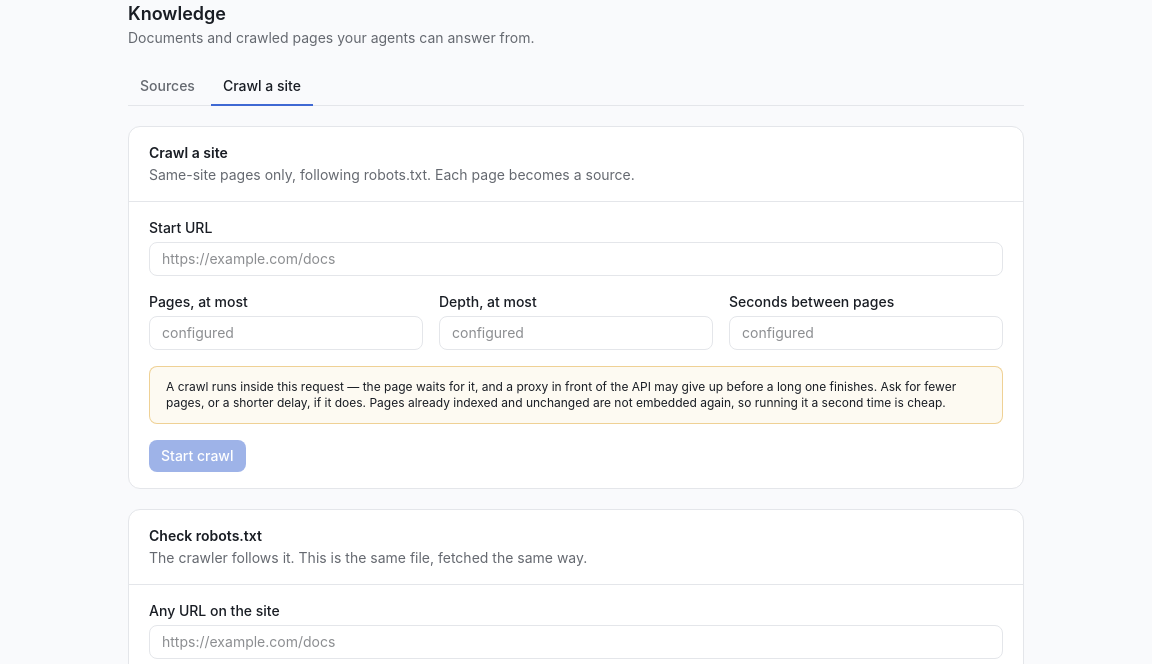
Test: the crawl report › lists what it skipped, with the server's reason for each
Type "https://acme.test/docs" into the field labelled "Start URL" at (576, 259), box [149, 242, 1003, 276]
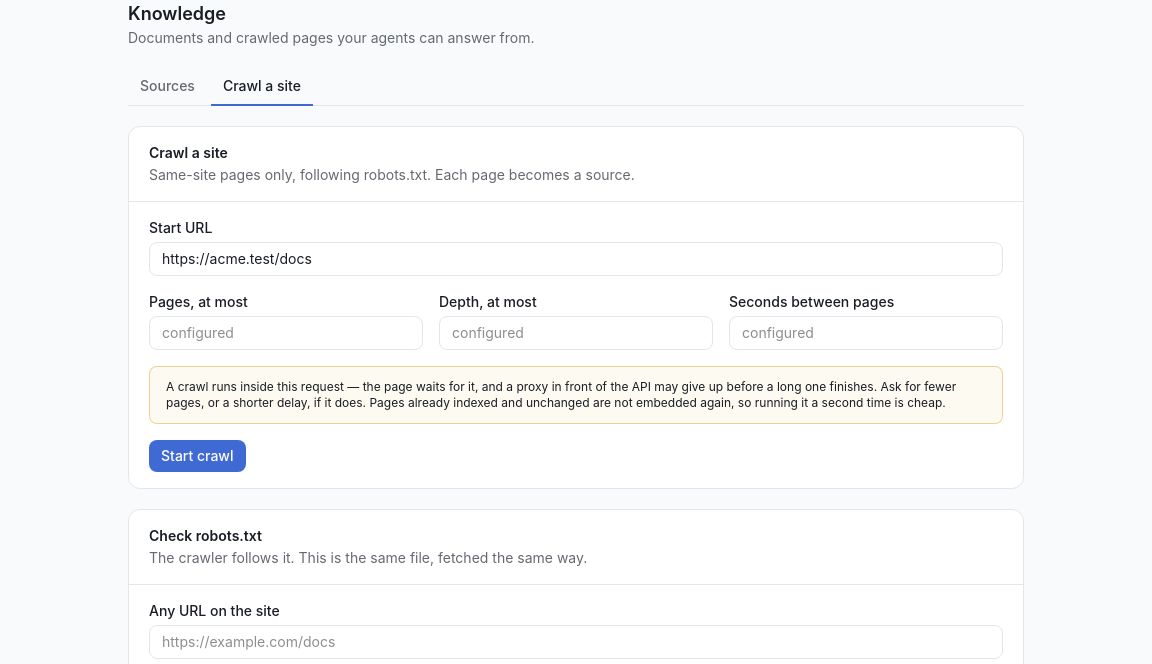
Click the button "Start crawl" at (197, 456), box [149, 440, 246, 472]
(page scrolled)
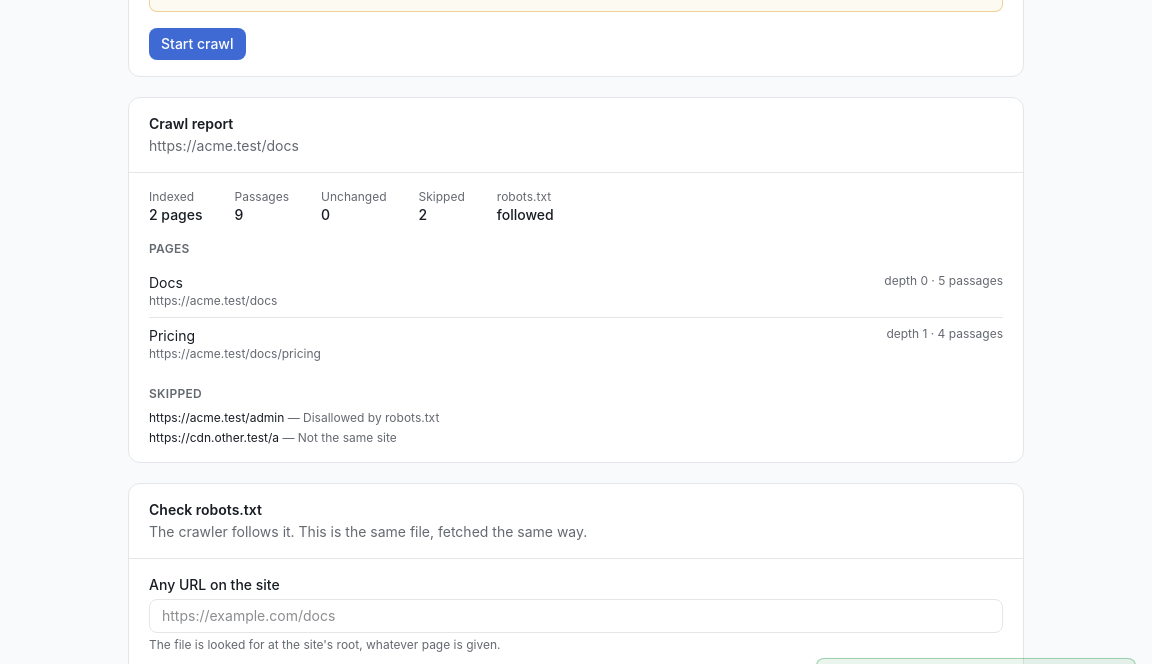
expect the list item "https://acme.test/admin — Disallowed by robots.txt" is shown: met, box [149, 410, 439, 425]
expect the list item "https://cdn.other.test/a — Not the same site" is shown: met, box [149, 430, 397, 445]
